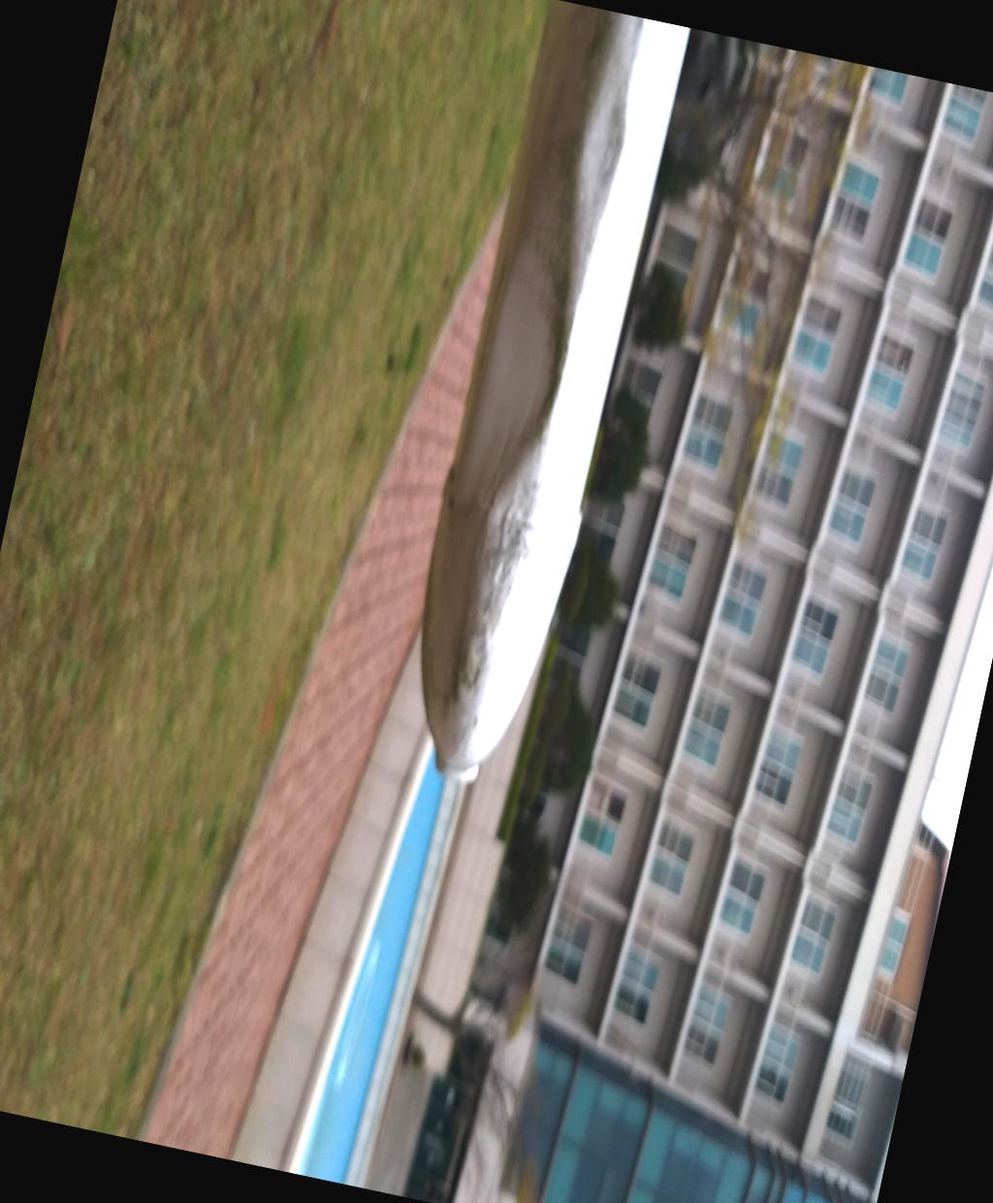dent: (845, 66, 993, 232)
